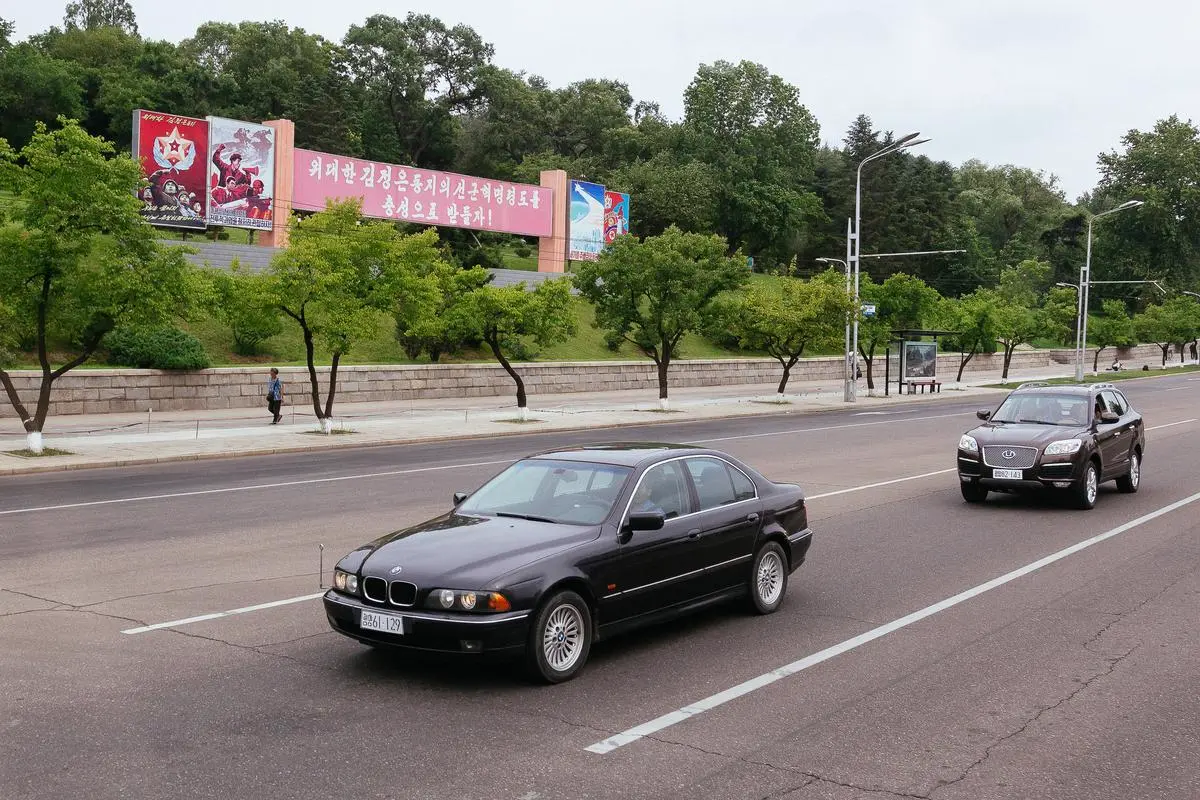car: (322, 440, 805, 683), (956, 381, 1144, 506)
person: (266, 366, 283, 424)
